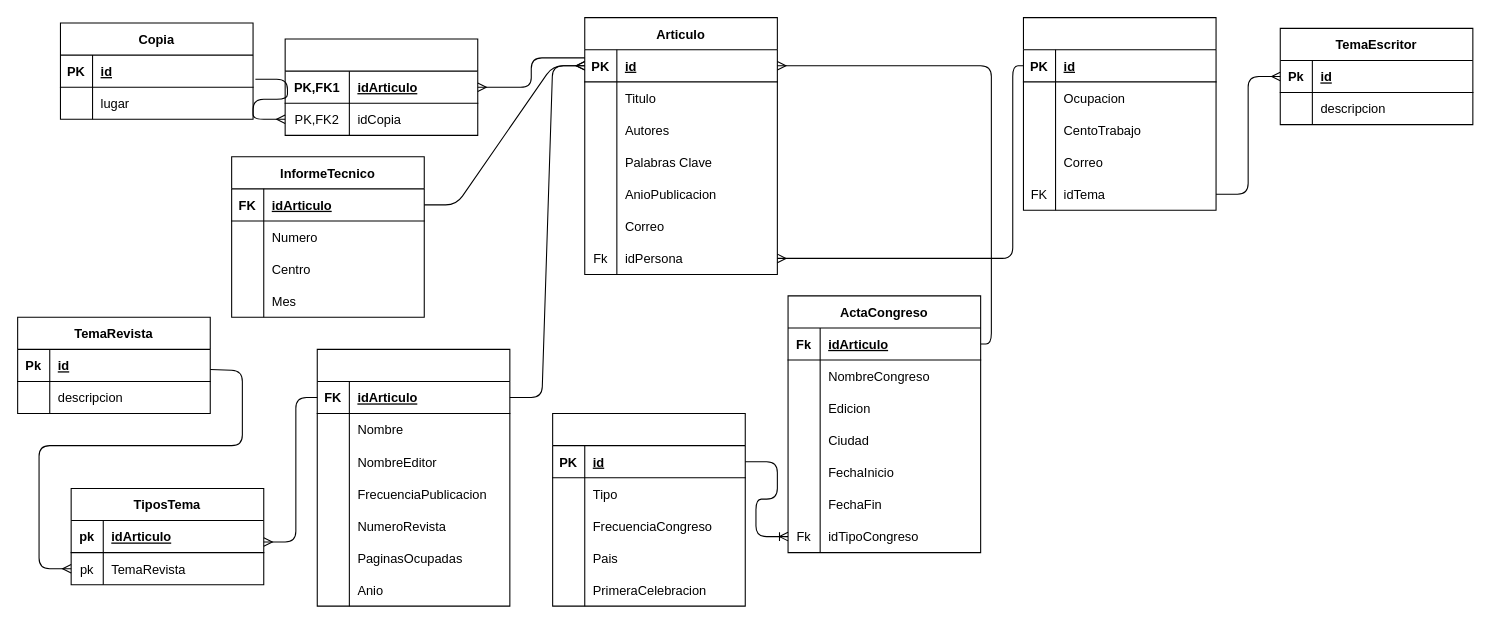
Some shapes in this 1491 by 624 pixel diagram are drawn without their labels. Here are the shapes that lost their labels. From the top down, the box of each, then its label:
(284, 38, 478, 135): CopiaArticulo
(1022, 17, 1216, 210): Persona
(316, 348, 510, 606): RevistaCientifica
(552, 412, 745, 606): TipoCongreso
